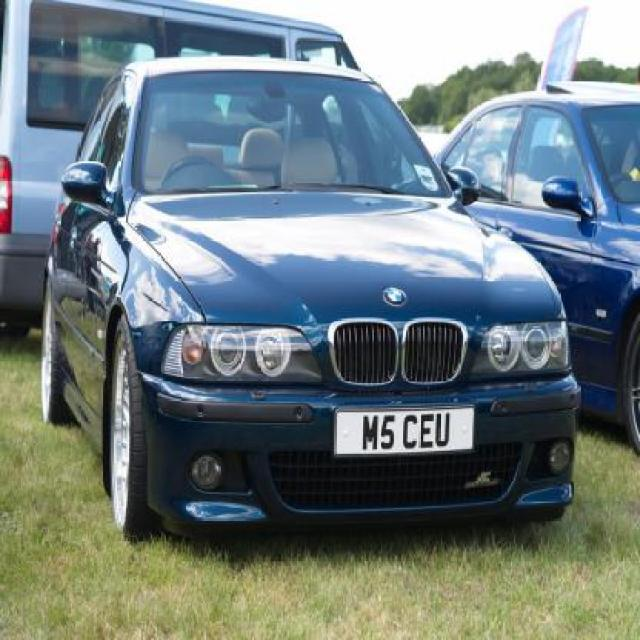License-Plates: (334, 406, 476, 458)
